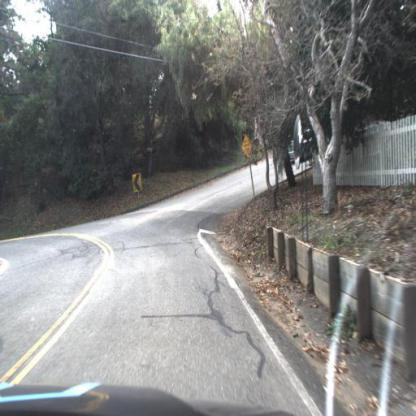car: (278, 135, 302, 169)
